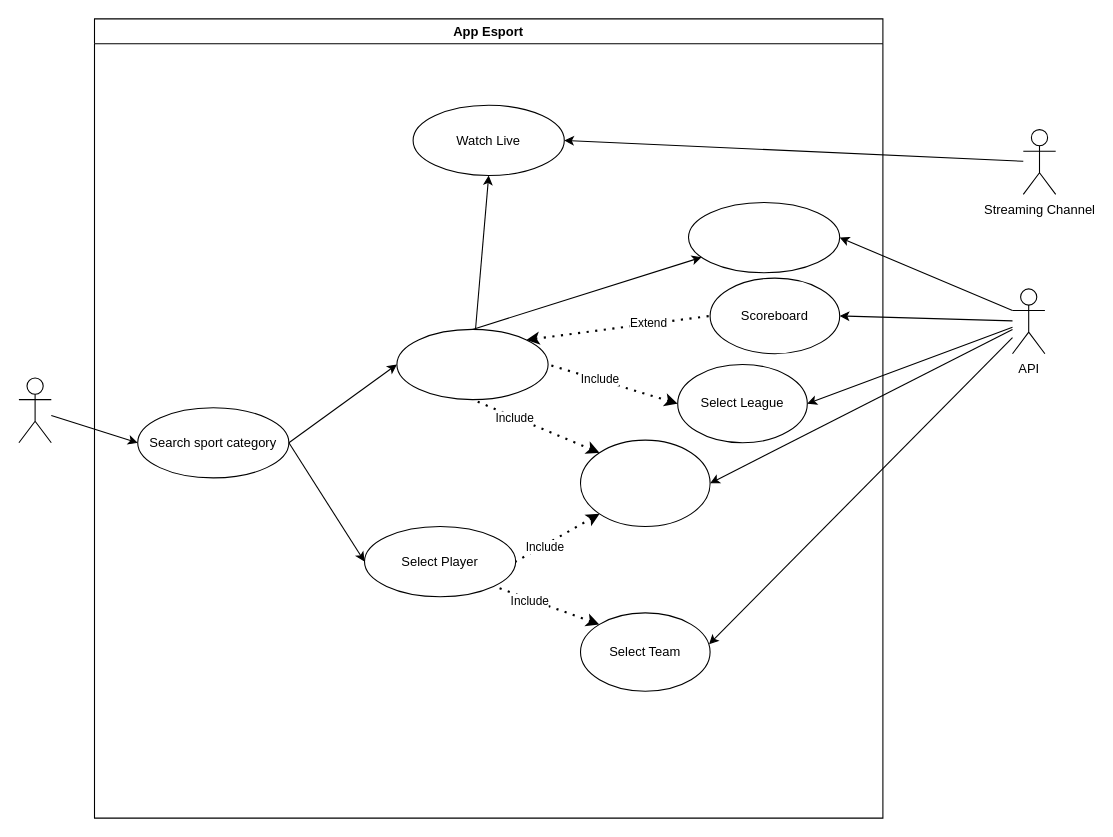
This 1113x837 diagram has some shape labels left out. The centre of each missing label's shape, as x and y in pixels:
"Actor" goes at (x=34, y=410).
"See odds" goes at (x=763, y=237).
"Select Match" goes at (x=472, y=364).
"Select Region" goes at (x=644, y=482).
